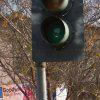Traffic light: (23, 2, 88, 65)
